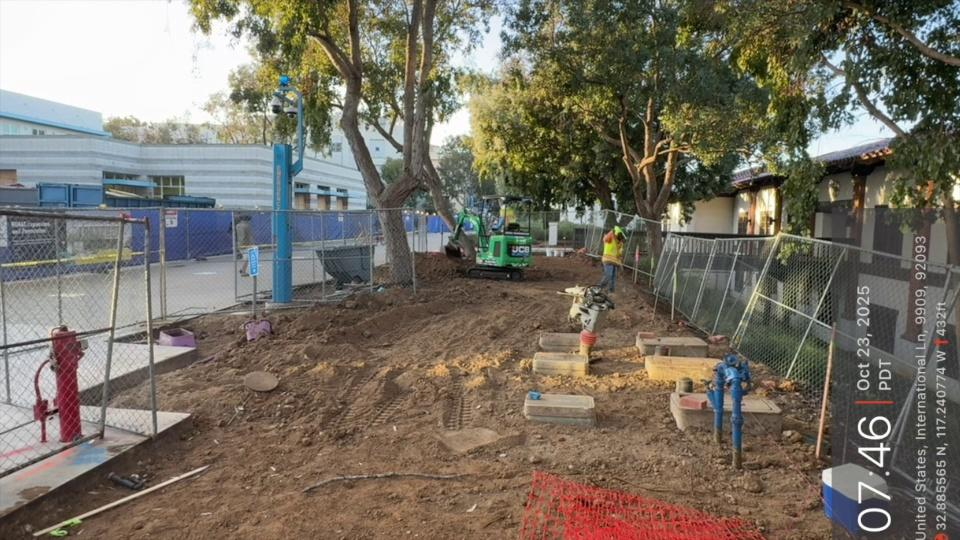Exacavator: (442, 192, 535, 281)
